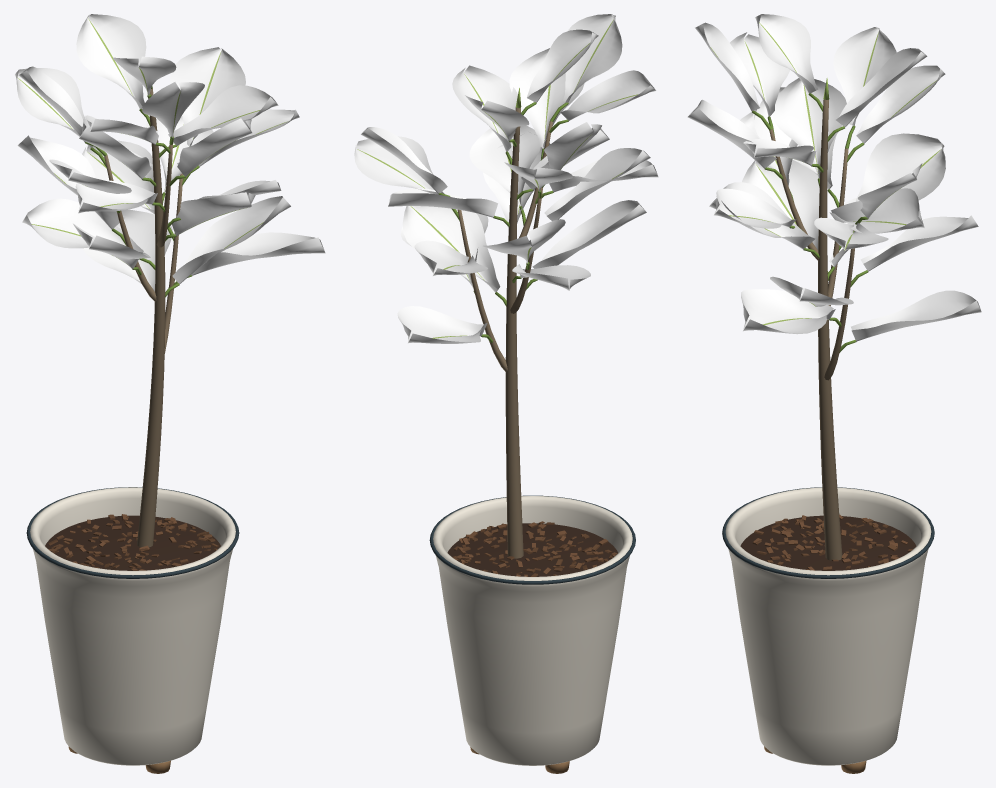
File: grande-plante-interieur-pot-ceramique.glb
The picture shows the model from 3 angles, left to right: view 1: azimuth 30°, elevation 25°; view 2: azimuth 150°, elevation 25°; view 3: azimuth 270°, elevation 25°; orthographic projection. The views are drawn at different scales.
Parts seen in each view (by area): view 1: grande-plante-interieur-pot-ceramique; view 2: grande-plante-interieur-pot-ceramique; view 3: grande-plante-interieur-pot-ceramique.
Boxes of the visible parts, x1,y1,x2,y2 form: grande-plante-interieur-pot-ceramique: (14, 14, 325, 773); grande-plante-interieur-pot-ceramique: (354, 14, 658, 773); grande-plante-interieur-pot-ceramique: (687, 14, 981, 773).
Size of the model in its own units: 0.6819 by 1.76 by 0.6486.
